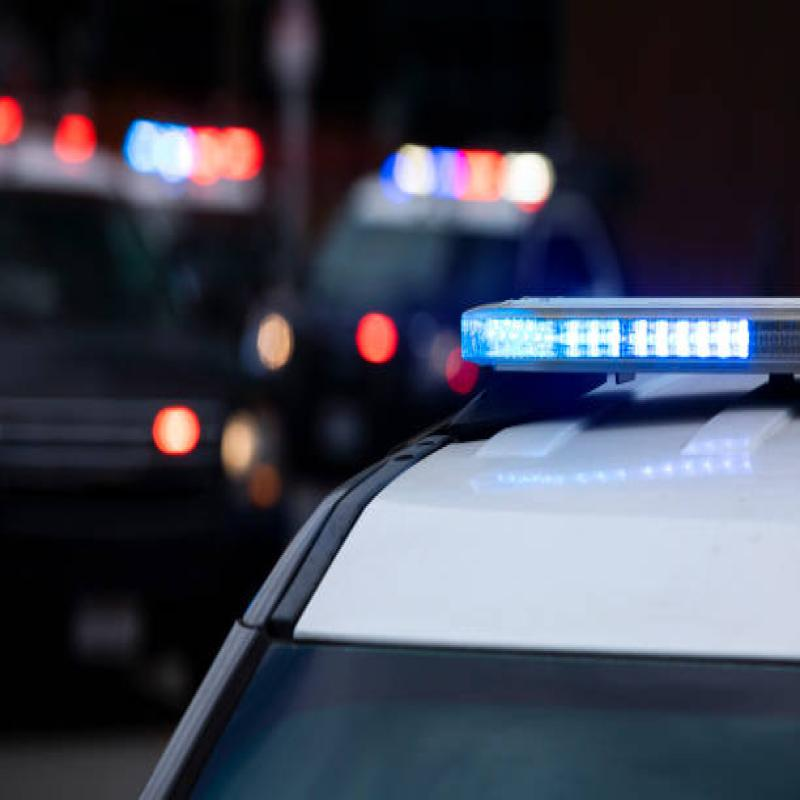AmbulanceSiren: (451, 286, 762, 407)
